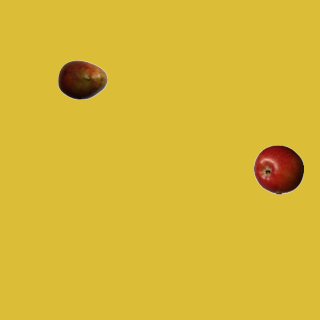Apple Braeburn: (253, 144, 303, 194)
Mango Red: (57, 54, 107, 104)
